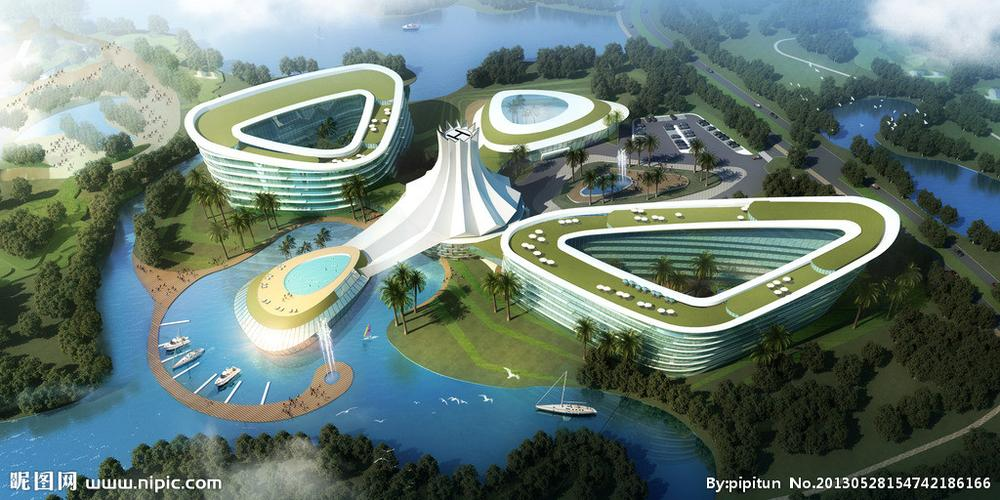buildings: (513, 200, 883, 375)
